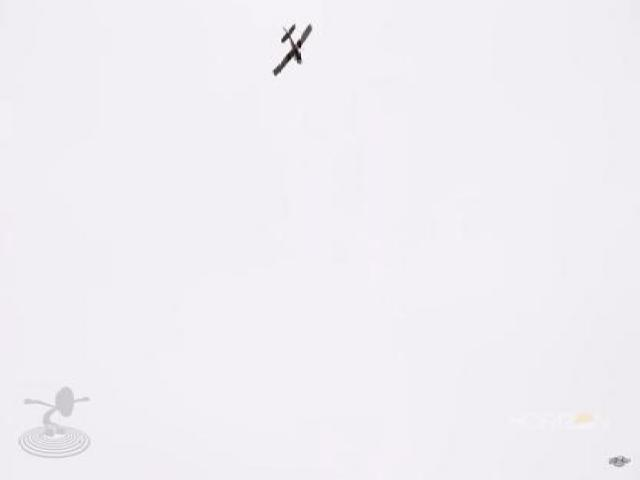uav: (272, 18, 313, 78)
